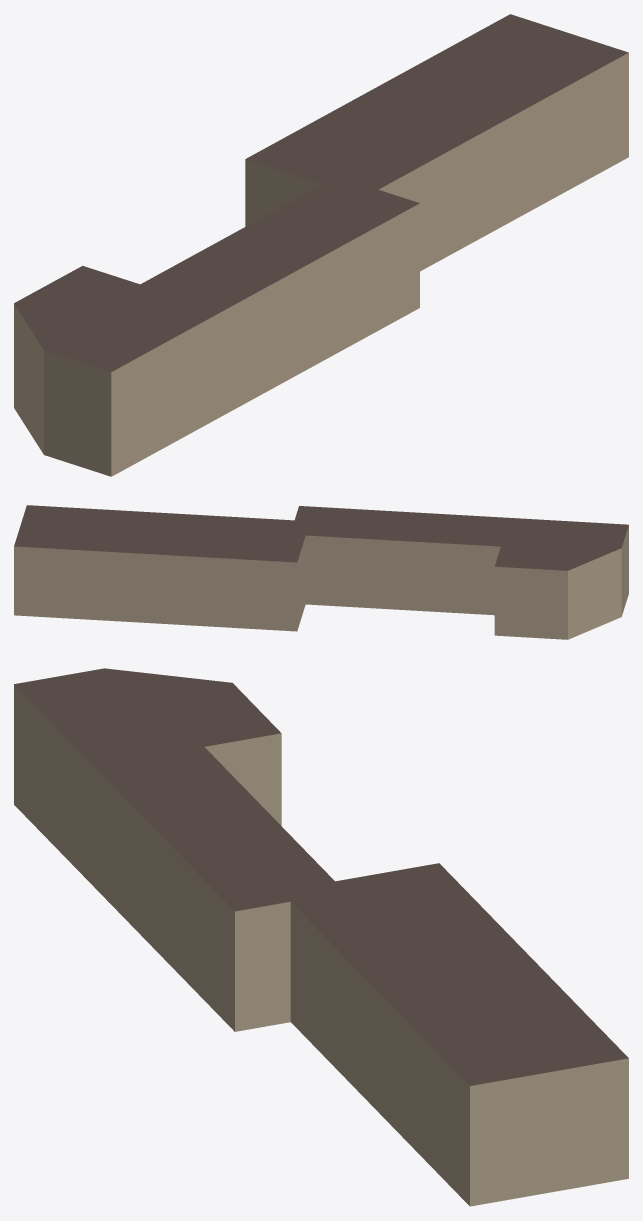
The picture shows the model from 3 angles, top to bottom: view 1: azimuth 30°, elevation 25°; view 2: azimuth 150°, elevation 25°; view 3: azimuth 270°, elevation 25°; orthographic projection. The views are drawn at different scales.
Visible parts, largest first — view 1: HP-w757502014; view 2: HP-w757502014; view 3: HP-w757502014.
Boxes of the visible parts, x1,y1,x2,y2 form: HP-w757502014: (14, 14, 628, 476); HP-w757502014: (14, 505, 628, 639); HP-w757502014: (14, 668, 628, 1206).
Bounding box in the file's own units: 66.92 × 9 × 41.63.
